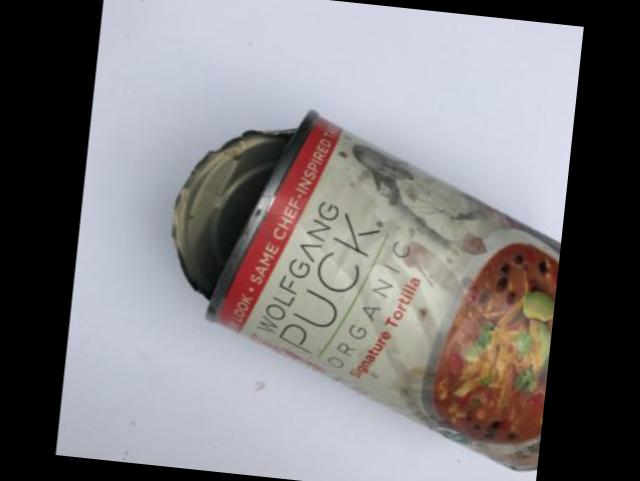metal: (177, 109, 562, 467)
